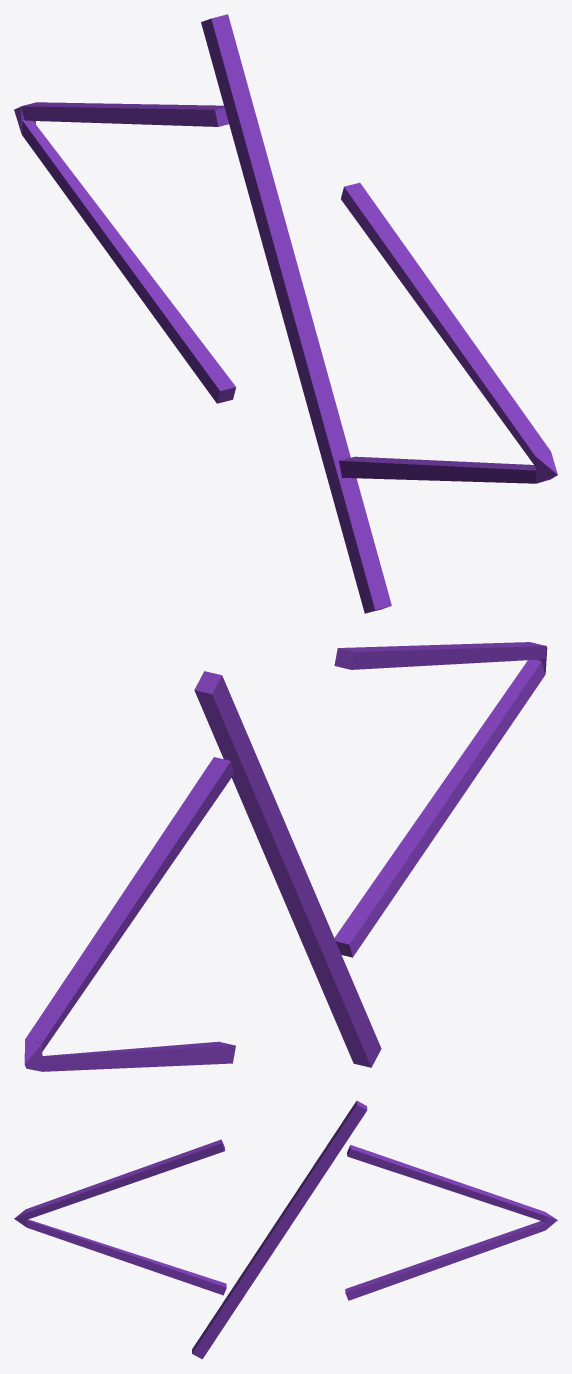
File: tag3.gltf
The picture shows the model from 3 angles, top to bottom: view 1: azimuth 30°, elevation 25°; view 2: azimuth 150°, elevation 25°; view 3: azimuth 270°, elevation 25°; orthographic projection. The views are drawn at different scales.
Visible parts, largest first — view 1: Cone.002; view 2: Cone.002; view 3: Cone.002.
Part boxes in pixels (x1=…): Cone.002: x1=14, y1=14, x2=557, y2=613; Cone.002: x1=24, y1=642, x2=547, y2=1071; Cone.002: x1=14, y1=1101, x2=557, y2=1359.
Size of the model in its own units: 1.04 by 15.73 by 30.59.
